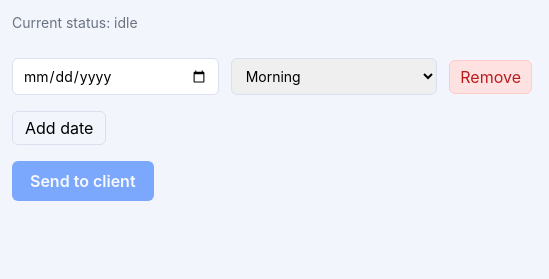
Test: BookingForm › renders a "round already active" banner on 409
Type "2099-07-15" into the date field named "date" at point(115, 77), box x1=12 y1=58 x2=219 y2=95
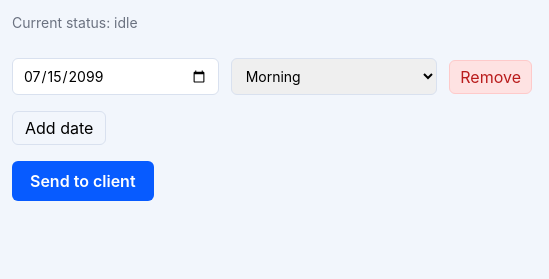
Select "Morning" in the dropdown named "window" at point(334, 77), box x1=231 y1=58 x2=437 y2=95
Click the button "Send to client" at point(83, 181), box x1=12 y1=161 x2=154 y2=201
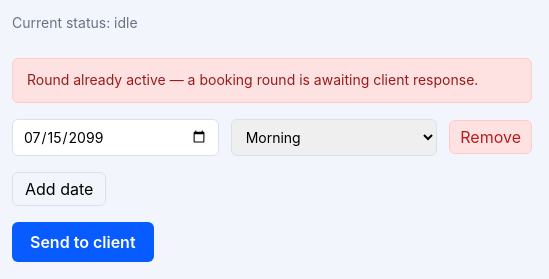
Expected: the text "Round already active" is shown, x1=27 y1=71 x2=478 y2=88
